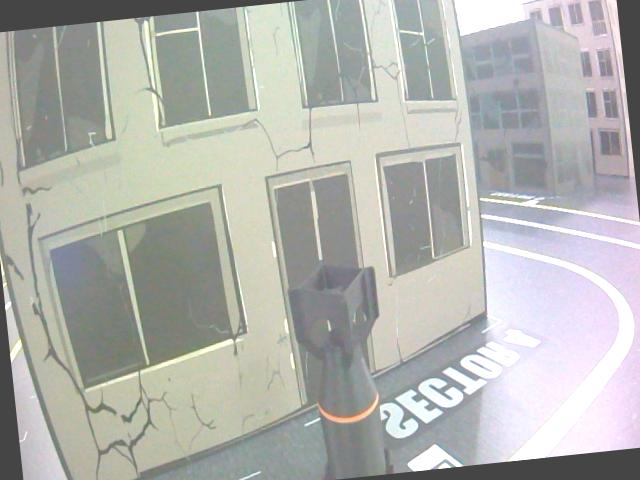Missile: (283, 252, 407, 480)
